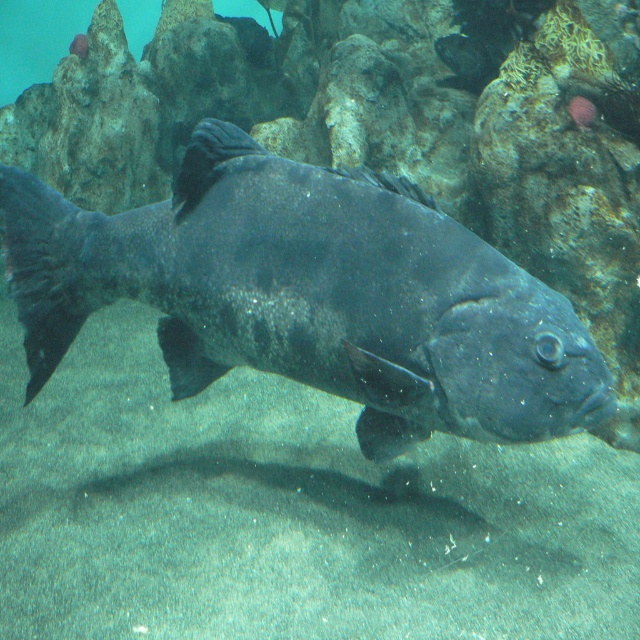Fish: (0, 118, 613, 467)
